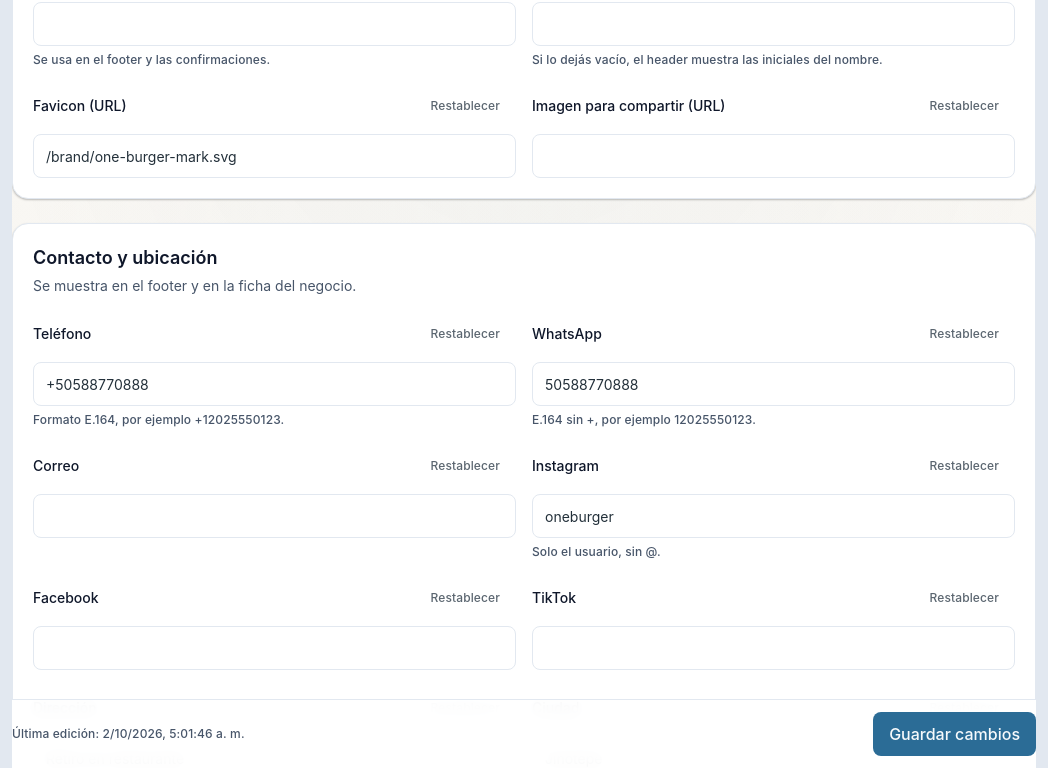
Scenario: AdminSettingsClientPage › muestra el error por campo que devuelve la API sin perder lo editado
The width and height of the screenshot is (1048, 768).
(page scrolled)
Replace the text in the field labelled "WhatsApp" with "+50588770888". click: (774, 384)
box: [532, 362, 1015, 406]
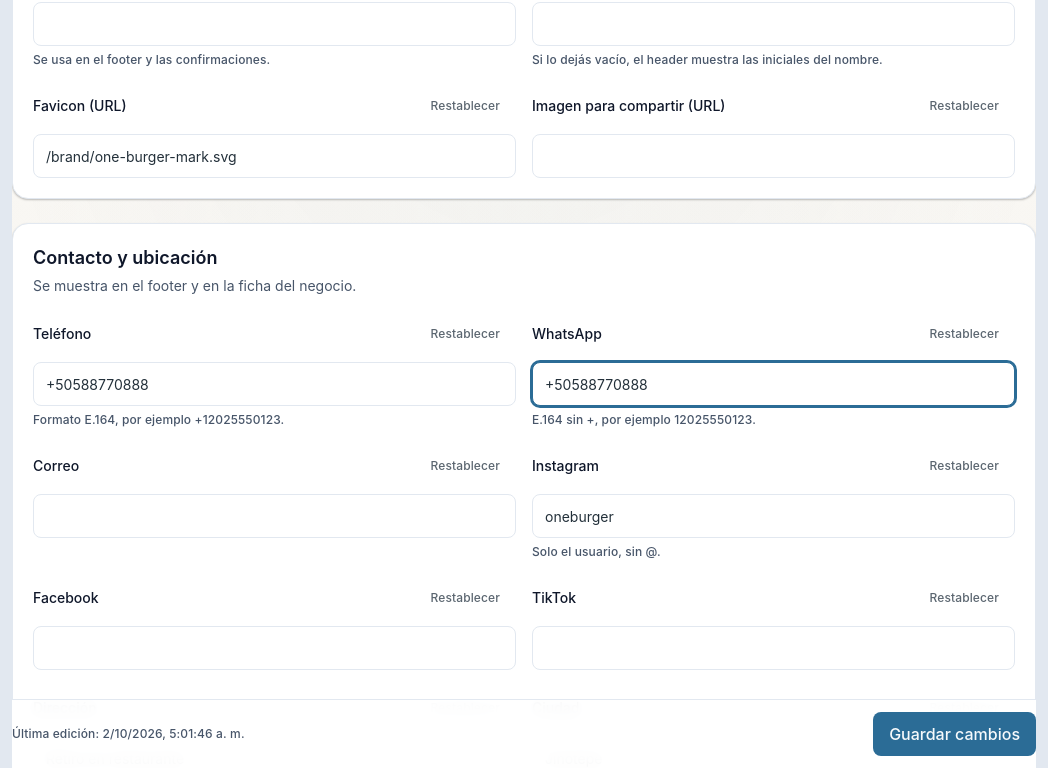
Click the button "Guardar cambios". click: (955, 734)
box: [873, 712, 1036, 756]
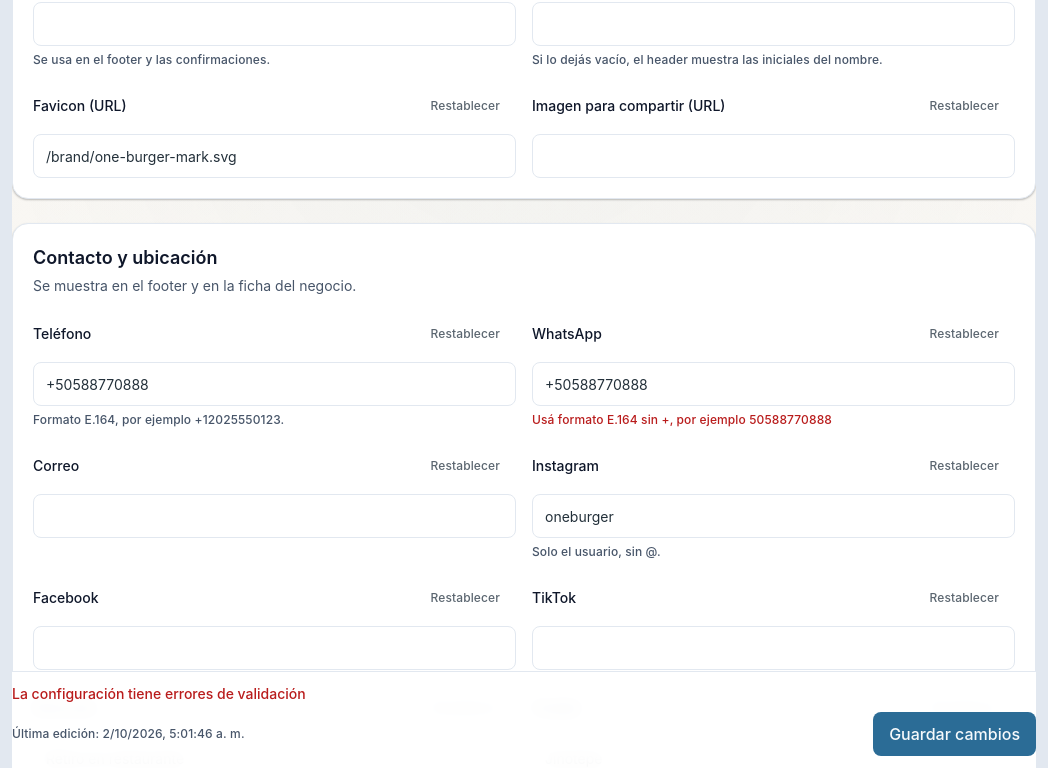
Expected: the message "Usá formato E.164 sin +, por ejemplo 50588770888" is shown, [532, 412, 832, 427]
